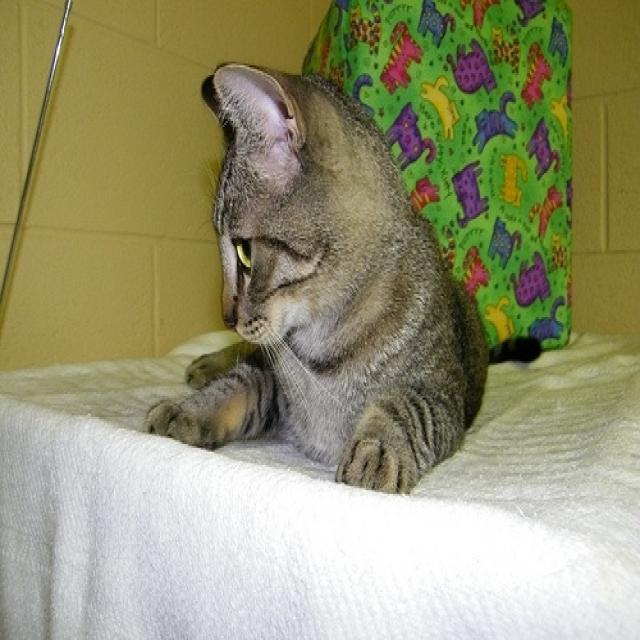cat: (142, 60, 542, 494)
